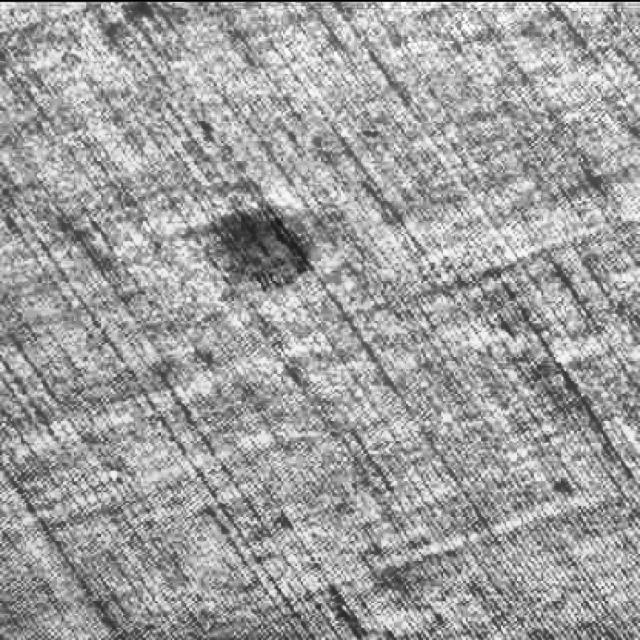oil_spot: (173, 186, 319, 307)
